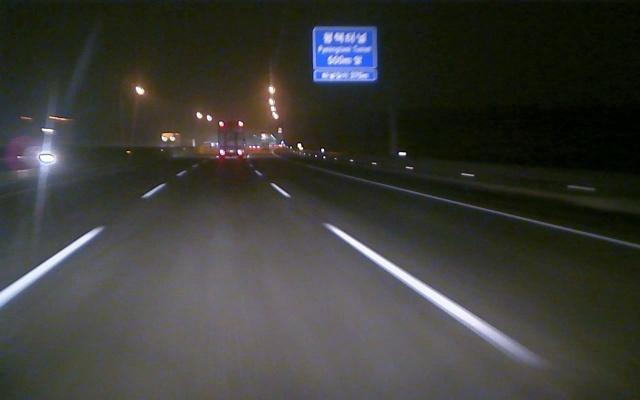lane: (271, 184, 550, 371), (1, 186, 160, 308), (386, 183, 640, 249)
